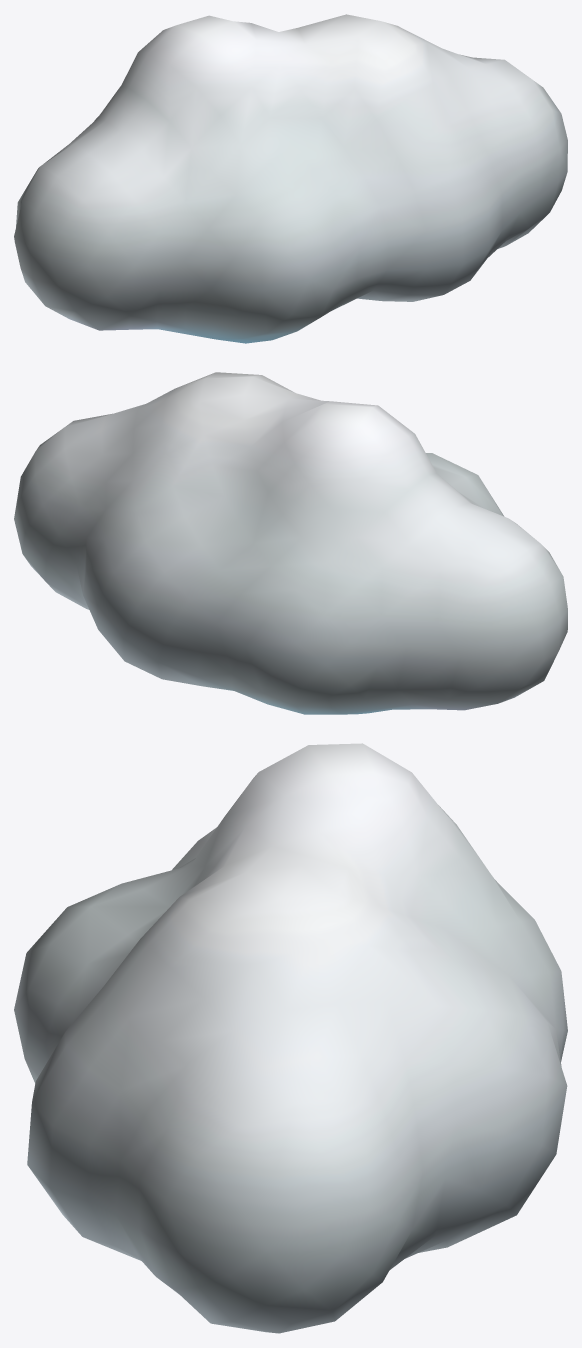
The model's file is cloud_big.glb.
3 views of the same model, one above another, from view 1: azimuth 30°, elevation 25°; view 2: azimuth 150°, elevation 25°; view 3: azimuth 270°, elevation 25° (orthographic). The views are drawn at different scales.
Parts seen in each view (by area): view 1: cloud_big; view 2: cloud_big; view 3: cloud_big.
Boxes of the visible parts, left/top/right/bottom form: cloud_big: left=14, top=14, right=567, bottom=343; cloud_big: left=14, top=372, right=567, bottom=714; cloud_big: left=14, top=743, right=567, bottom=1333.
Size of the model in its own units: 3.61 by 1.95 by 2.24.
1 material, 1 textured.
